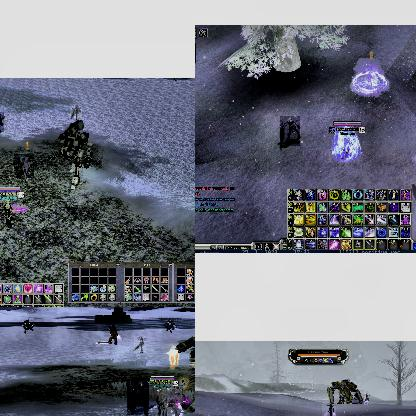caliana: (127, 379, 149, 415), (280, 116, 300, 146), (161, 388, 182, 416), (14, 154, 34, 178), (322, 402, 336, 416), (134, 336, 146, 352), (70, 104, 82, 118), (0, 112, 4, 131), (364, 393, 368, 405)
